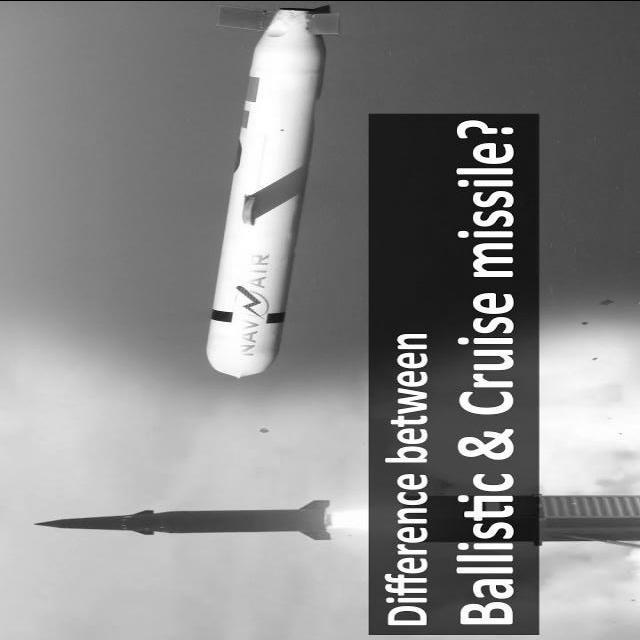missile: (198, 33, 324, 385), (20, 494, 342, 544)
